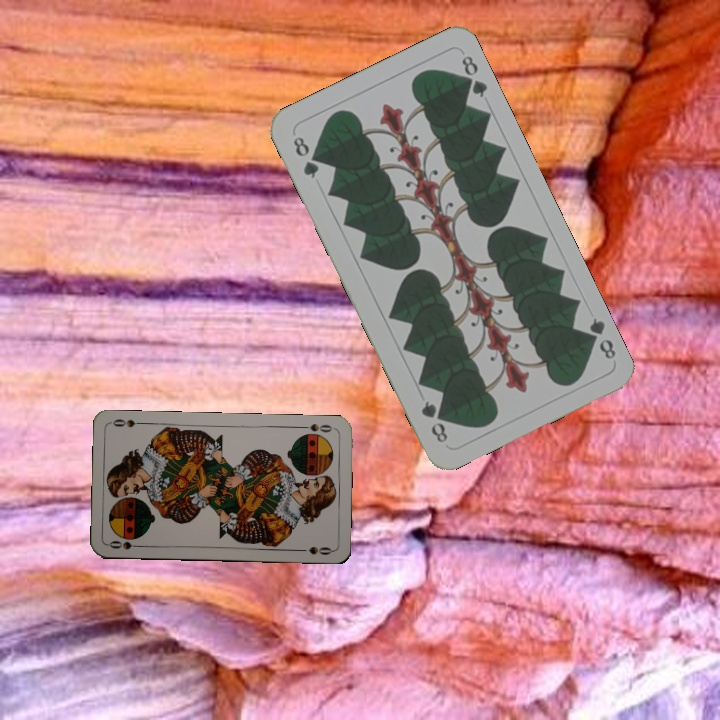G8: (580, 314, 619, 362), (289, 132, 322, 182)
SO: (105, 537, 146, 552), (296, 420, 337, 435)
